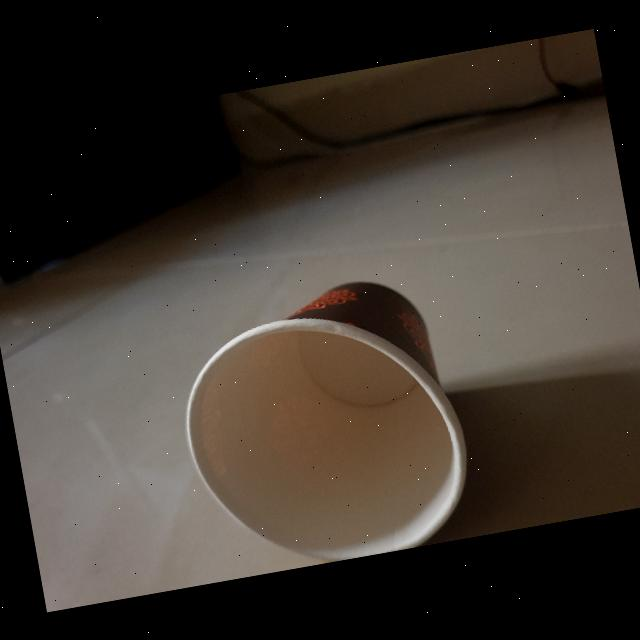trash: (159, 262, 485, 584)
